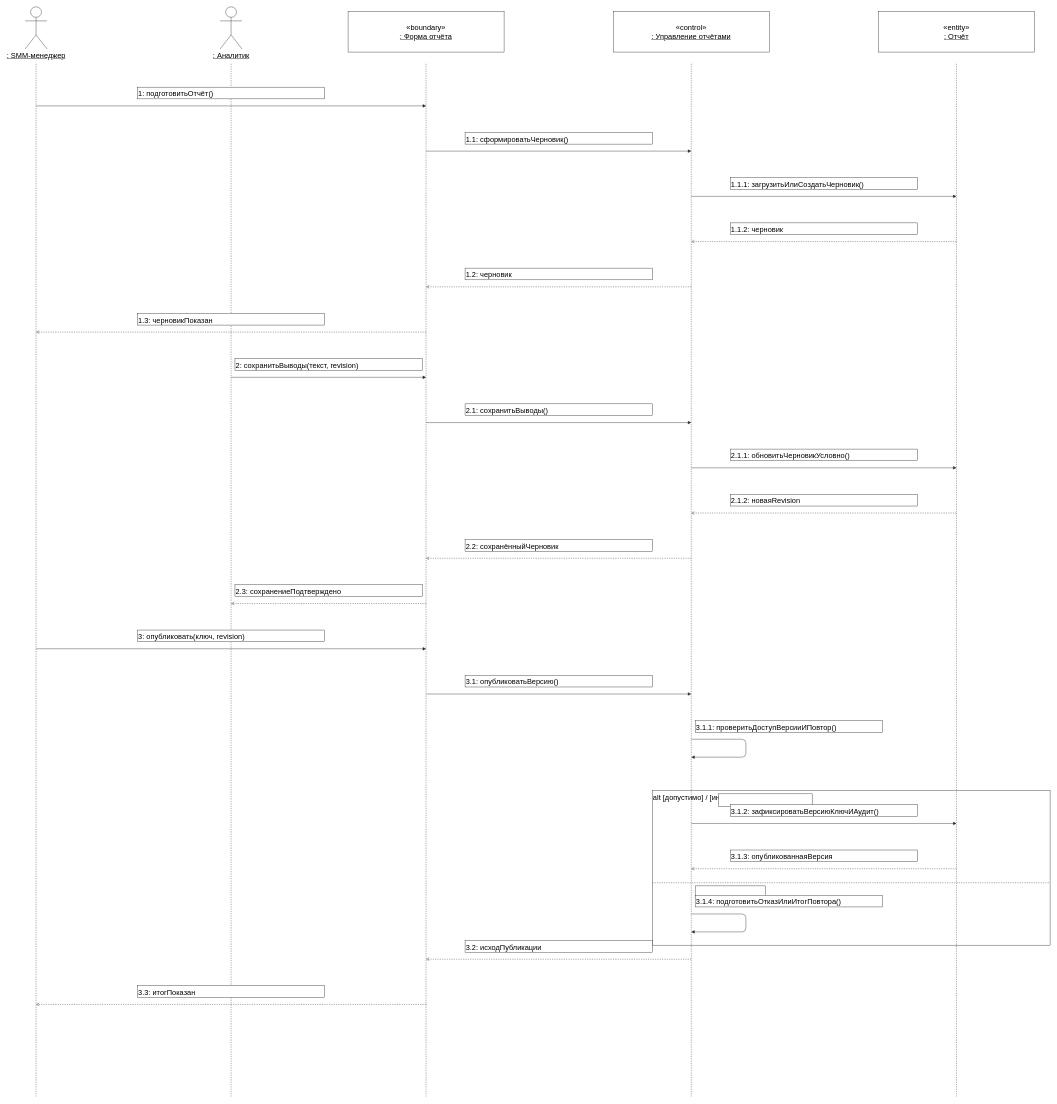
Image size: 1057x1104. Some labels were removed from this diagram. Here are the shapes that lost their labels. From the top down, the centre of each, then its label:
At pixel 765 799: "[допустимо]".
At pixel 730 891: "[иначе]".
